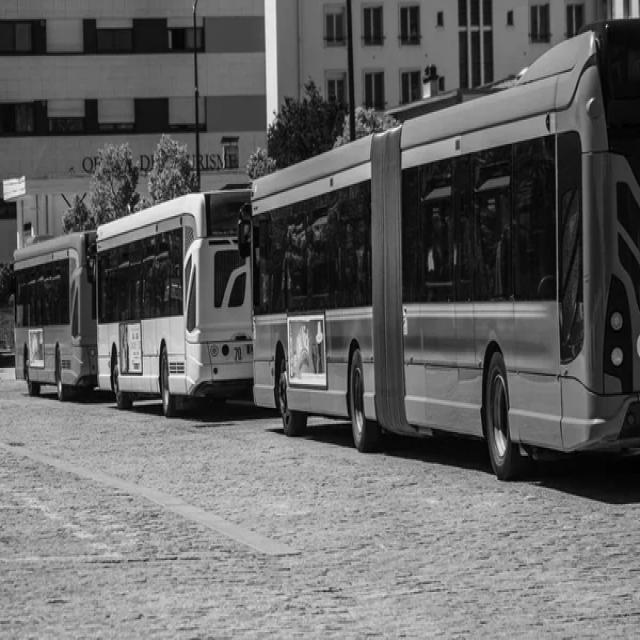Bus: (249, 19, 640, 479), (97, 190, 251, 416), (13, 232, 97, 399)
